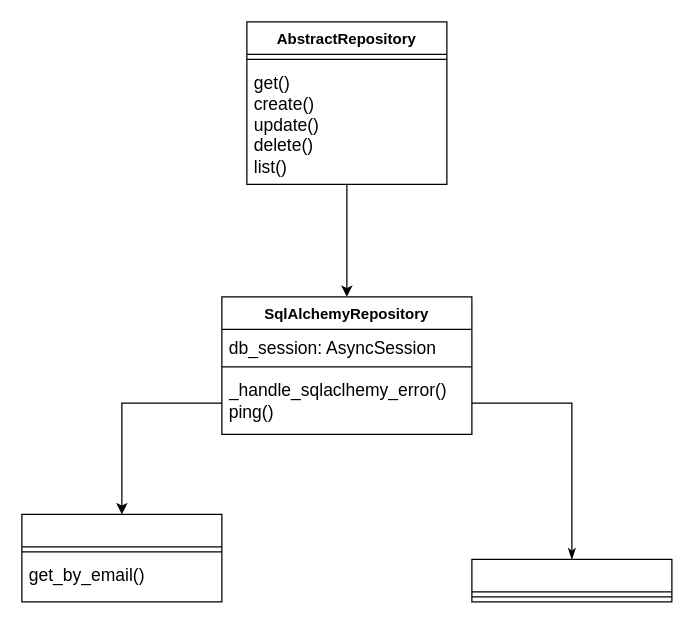
Some shapes in this 694 by 628 pixel diagram are drawn without their labels. Here are the shapes that lost their labels. From the top down, the box of each, then its label:
(21, 513, 222, 602): UserRepository
(471, 558, 672, 602): EntryRepository
